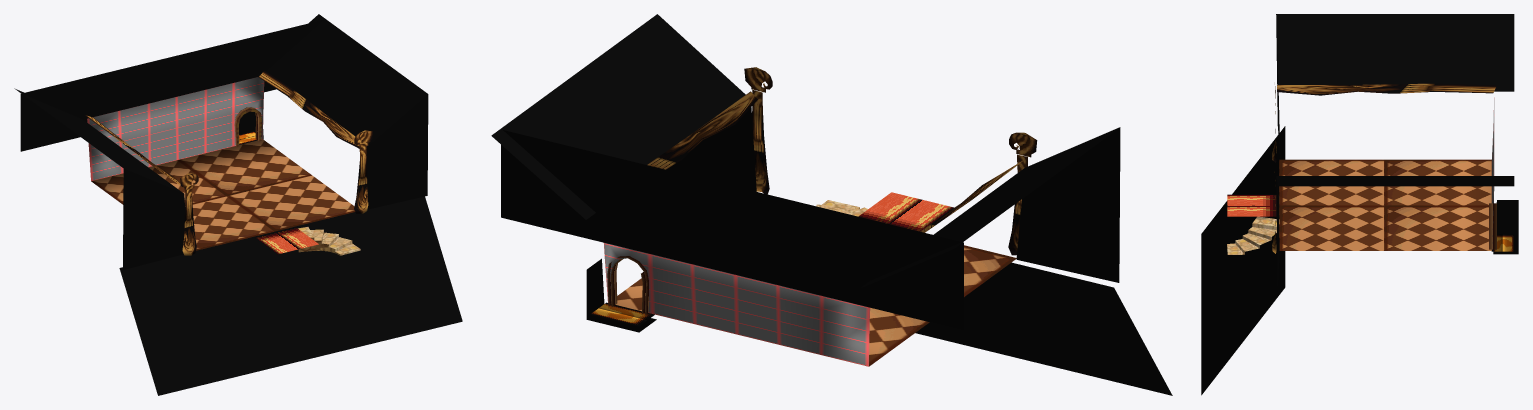
3 renders of one model, left to right at view 1: azimuth 30°, elevation 25°; view 2: azimuth 150°, elevation 25°; view 3: azimuth 270°, elevation 25°, orthographic. The views are drawn at different scales.
Parts seen in each view (by area): view 1: sh_pc_l02; view 2: sh_pc_l02; view 3: sh_pc_l02.
Part boxes in pixels (x1,y1,x2,y2): sh_pc_l02: [14, 14, 462, 395]; sh_pc_l02: [491, 14, 1172, 395]; sh_pc_l02: [1201, 14, 1518, 395].
Bounding box in the file's own units: 5.5 × 3.49 × 4.56.
Materials: 10 (10 with a texture image).
